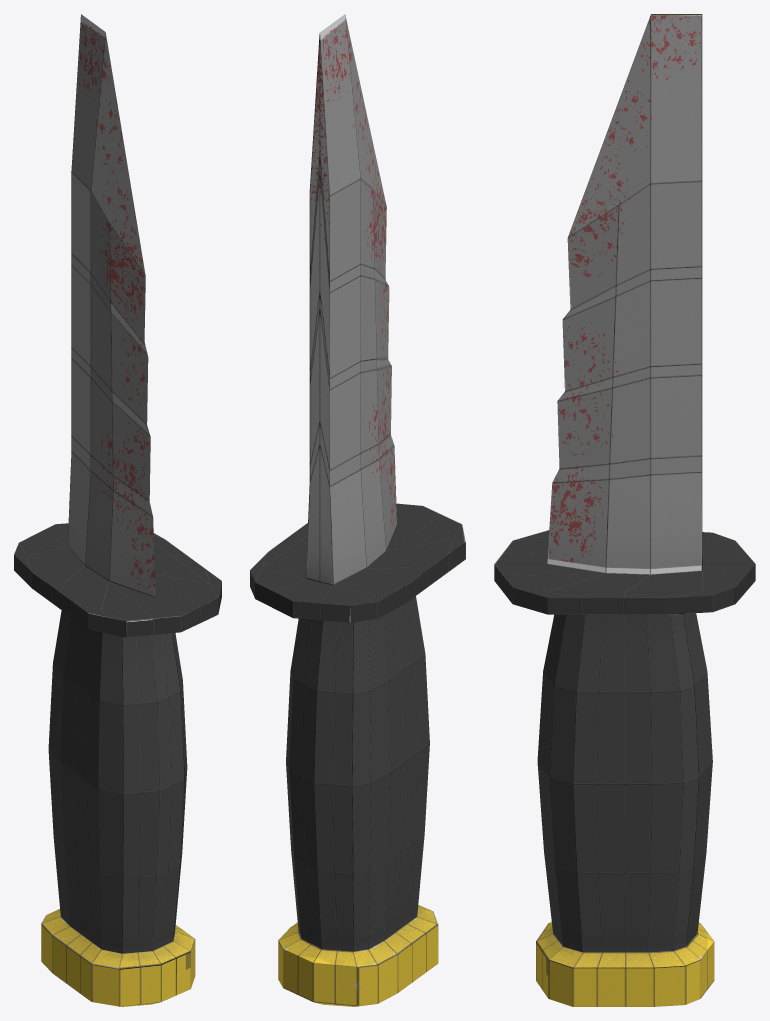
File: Completed Knife.fbx
The picture shows the model from 3 angles, left to right: view 1: azimuth 30°, elevation 25°; view 2: azimuth 150°, elevation 25°; view 3: azimuth 270°, elevation 25°; orthographic projection. The views are drawn at different scales.
Parts seen in each view (by area): view 1: Knife; view 2: Knife; view 3: Knife.
Boxes of the visible parts, box(x1,y1,x2,y2) form: Knife: box(14, 14, 221, 1006); Knife: box(250, 14, 465, 1006); Knife: box(494, 14, 755, 1006).
Bounding box in the file's own units: 166 × 1119 × 271.
